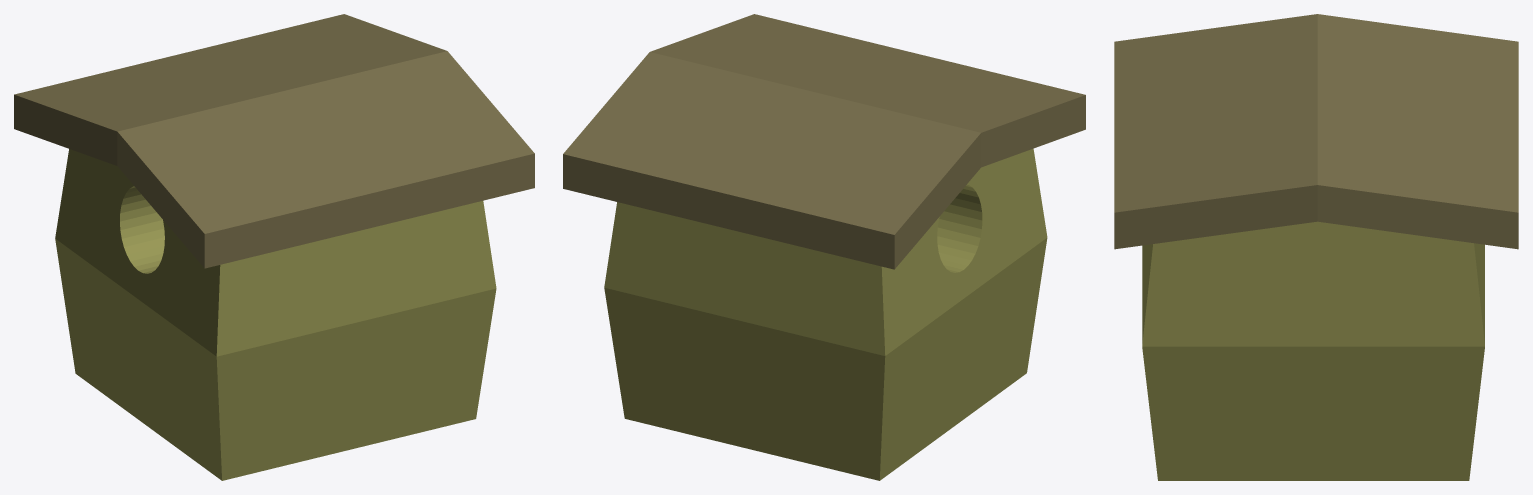
The model's file is hivebox.glb.
3 views of the same model, side by side, from view 1: azimuth 30°, elevation 25°; view 2: azimuth 150°, elevation 25°; view 3: azimuth 270°, elevation 25° (orthographic). The views are drawn at different scales.
Visible parts, largest first — view 1: Cube, Cube.001; view 2: Cube, Cube.001; view 3: Cube.001, Cube.
Boxes of the visible parts, x1,y1,x2,y2 form: Cube: (55, 149, 496, 480); Cube.001: (14, 14, 534, 268); Cube: (604, 148, 1047, 480); Cube.001: (563, 14, 1085, 269); Cube.001: (1114, 14, 1518, 249); Cube: (1142, 221, 1484, 480).
Bounding box in the file's own units: 2.67 × 2.27 × 2.6.
